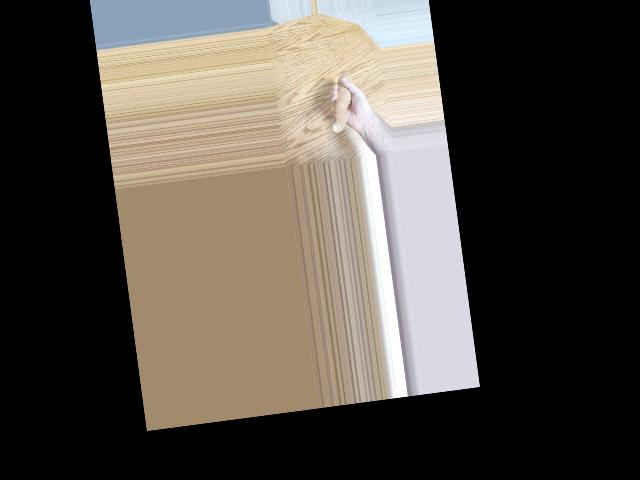sweet_potato: (325, 70, 357, 136)
